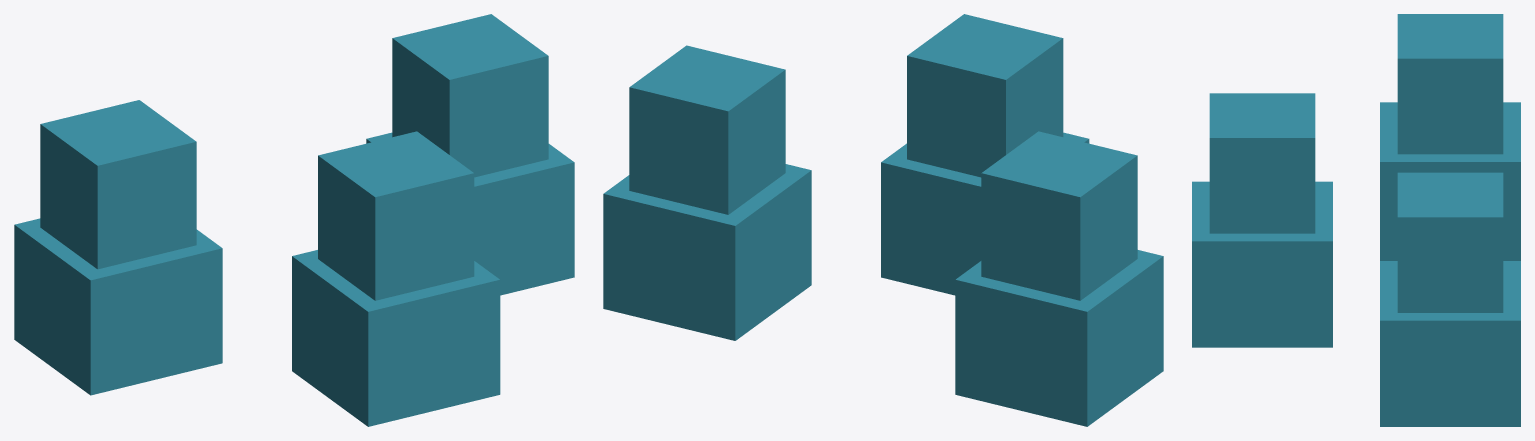
The model's file is seasonal-decorations.source.glb.
The picture shows the model from 3 angles, left to right: view 1: azimuth 30°, elevation 25°; view 2: azimuth 150°, elevation 25°; view 3: azimuth 270°, elevation 25°; orthographic projection. The views are drawn at different scales.
Parts seen in each view (by area): view 1: seasonal-decorations-planter--0.8-0-mesh, seasonal-decorations-planter-0-0.8-mesh, seasonal-decorations-green--0.8-0-mesh, seasonal-decorations-green-0-0.8-mesh, seasonal-decorations-green-0.8-0-mesh, seasonal-decorations-planter-0.8-0-mesh; view 2: seasonal-decorations-planter--0.8-0-mesh, seasonal-decorations-planter-0.8-0-mesh, seasonal-decorations-green--0.8-0-mesh, seasonal-decorations-green-0.8-0-mesh, seasonal-decorations-green-0-0.8-mesh, seasonal-decorations-planter-0-0.8-mesh; view 3: seasonal-decorations-planter-0-0.8-mesh, seasonal-decorations-planter-0.8-0-mesh, seasonal-decorations-green-0-0.8-mesh, seasonal-decorations-green--0.8-0-mesh, seasonal-decorations-green-0.8-0-mesh, seasonal-decorations-planter--0.8-0-mesh.
Boxes of the visible parts, box(x1,y1,x2,y2) form: seasonal-decorations-planter--0.8-0-mesh: box(14, 218, 222, 395); seasonal-decorations-planter-0-0.8-mesh: box(292, 250, 500, 426); seasonal-decorations-green--0.8-0-mesh: box(40, 100, 196, 269); seasonal-decorations-green-0-0.8-mesh: box(318, 131, 474, 300); seasonal-decorations-green-0.8-0-mesh: box(392, 14, 548, 177); seasonal-decorations-planter-0.8-0-mesh: box(366, 132, 574, 295); seasonal-decorations-planter--0.8-0-mesh: box(955, 250, 1163, 426); seasonal-decorations-planter-0.8-0-mesh: box(603, 164, 811, 340); seasonal-decorations-green--0.8-0-mesh: box(981, 131, 1137, 300); seasonal-decorations-green-0.8-0-mesh: box(629, 45, 785, 214); seasonal-decorations-green-0-0.8-mesh: box(907, 14, 1063, 177); seasonal-decorations-planter-0-0.8-mesh: box(881, 132, 1089, 295); seasonal-decorations-planter-0-0.8-mesh: box(1192, 181, 1332, 347); seasonal-decorations-planter-0.8-0-mesh: box(1380, 261, 1520, 426); seasonal-decorations-green-0-0.8-mesh: box(1209, 93, 1315, 233); seasonal-decorations-green--0.8-0-mesh: box(1397, 14, 1503, 154); seasonal-decorations-green-0.8-0-mesh: box(1397, 172, 1503, 312); seasonal-decorations-planter--0.8-0-mesh: box(1380, 102, 1520, 260).
Bounding box in the file's own units: 2.2 × 0.95 × 1.4.
